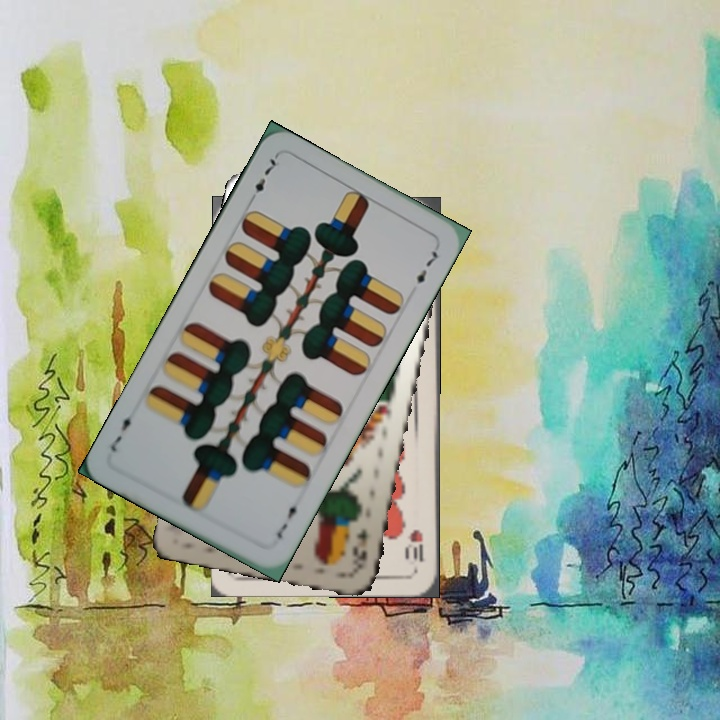E7: (245, 152, 280, 206), (272, 497, 303, 542)
EK: (348, 524, 371, 565)
H10: (404, 525, 426, 564)
